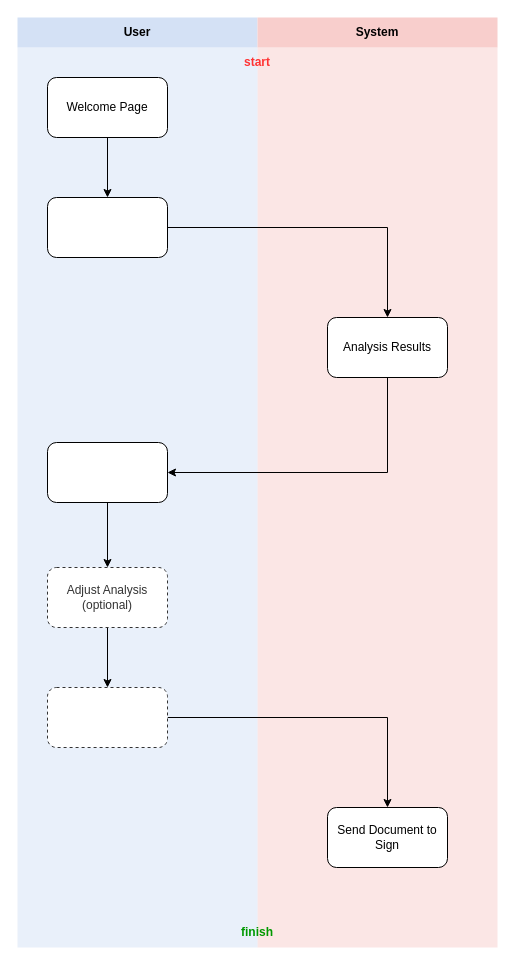
The diagram is 514 pixels wide and 964 high, and some of its shapes have lost their labels. Each missing label, with the box of its shape:
Review Results: (46, 442, 168, 502)
Send documents: (46, 196, 168, 258)
Sign (optional): (46, 686, 168, 748)
